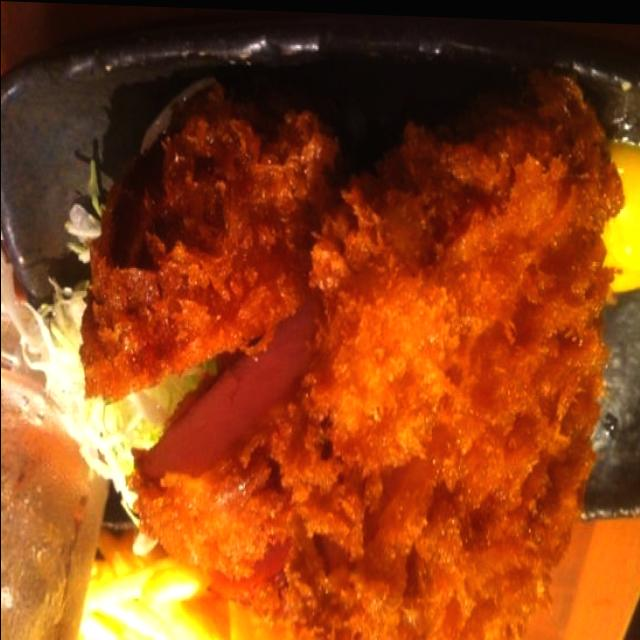炸货点心: (4, 25, 640, 640)
